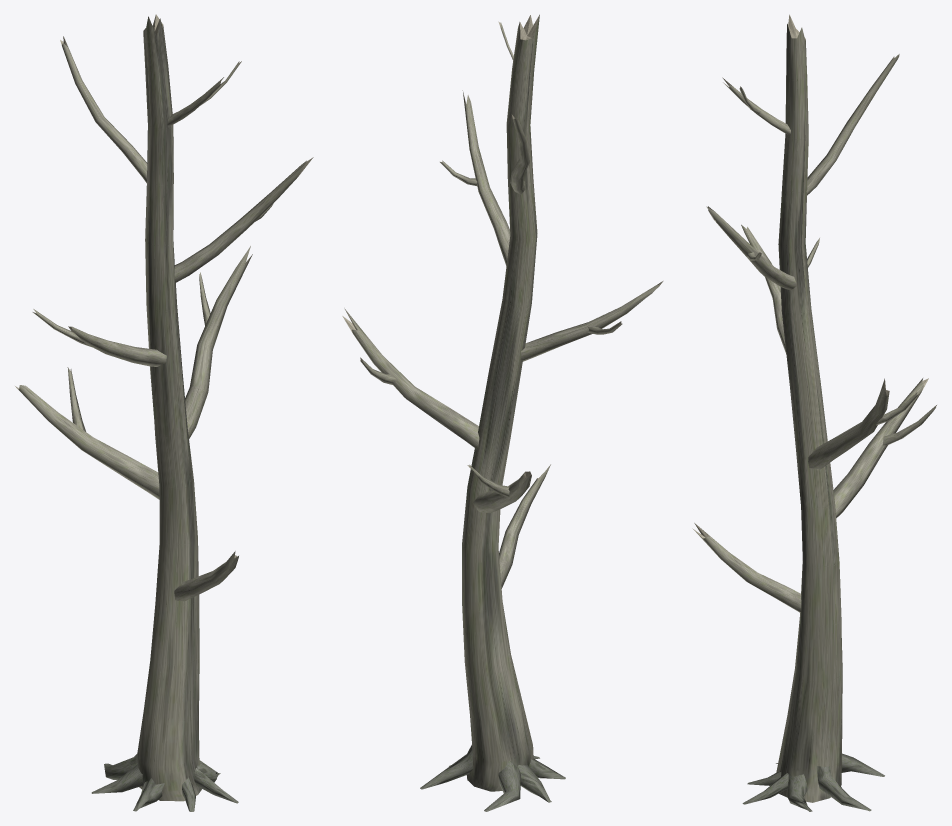
The model's file is dead-tree-1.glb.
The picture shows the model from 3 angles, left to right: view 1: azimuth 30°, elevation 25°; view 2: azimuth 150°, elevation 25°; view 3: azimuth 270°, elevation 25°; orthographic projection. The views are drawn at different scales.
Visible parts, largest first — view 1: dead-tree-1; view 2: dead-tree-1; view 3: dead-tree-1.
Part boxes in pixels (bbox=[...]): dead-tree-1: bbox=[15, 14, 313, 811]; dead-tree-1: bbox=[342, 14, 663, 811]; dead-tree-1: bbox=[692, 14, 936, 811].
Bounding box in the file's own units: 6.15 × 18 × 5.27.
Materials: 1 (1 with a texture image).
